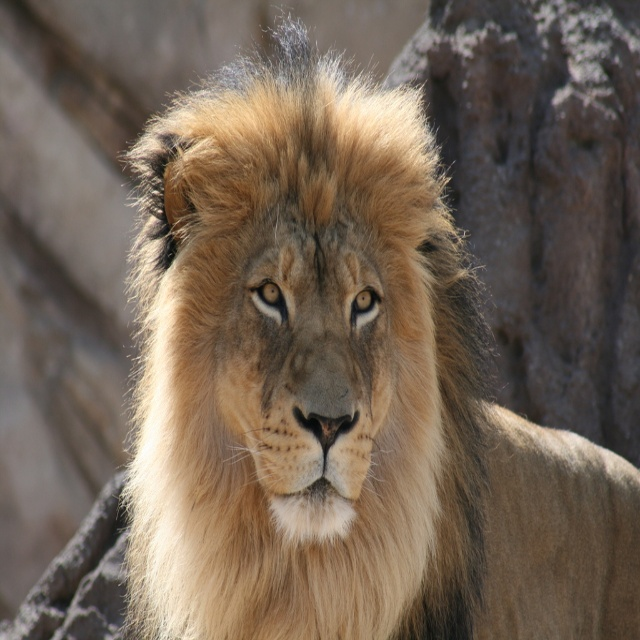Lion: (116, 2, 640, 639)
